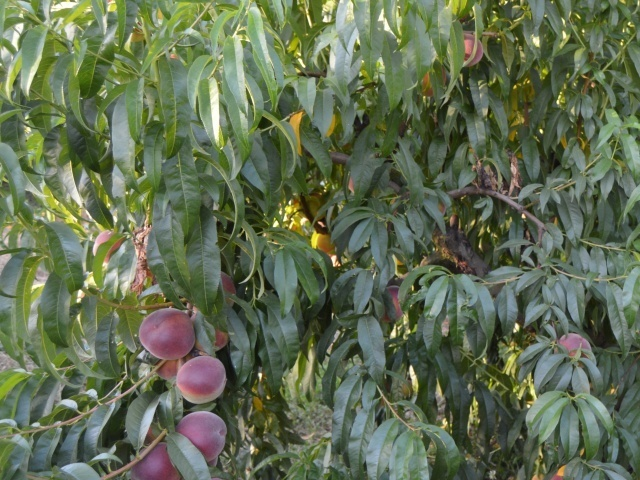peach: (137, 305, 199, 364), (171, 352, 229, 406), (173, 410, 229, 463), (130, 441, 181, 479), (142, 348, 193, 385), (87, 228, 126, 267), (191, 317, 232, 353), (557, 328, 596, 363), (459, 30, 488, 71), (379, 282, 407, 323), (217, 270, 245, 306)
